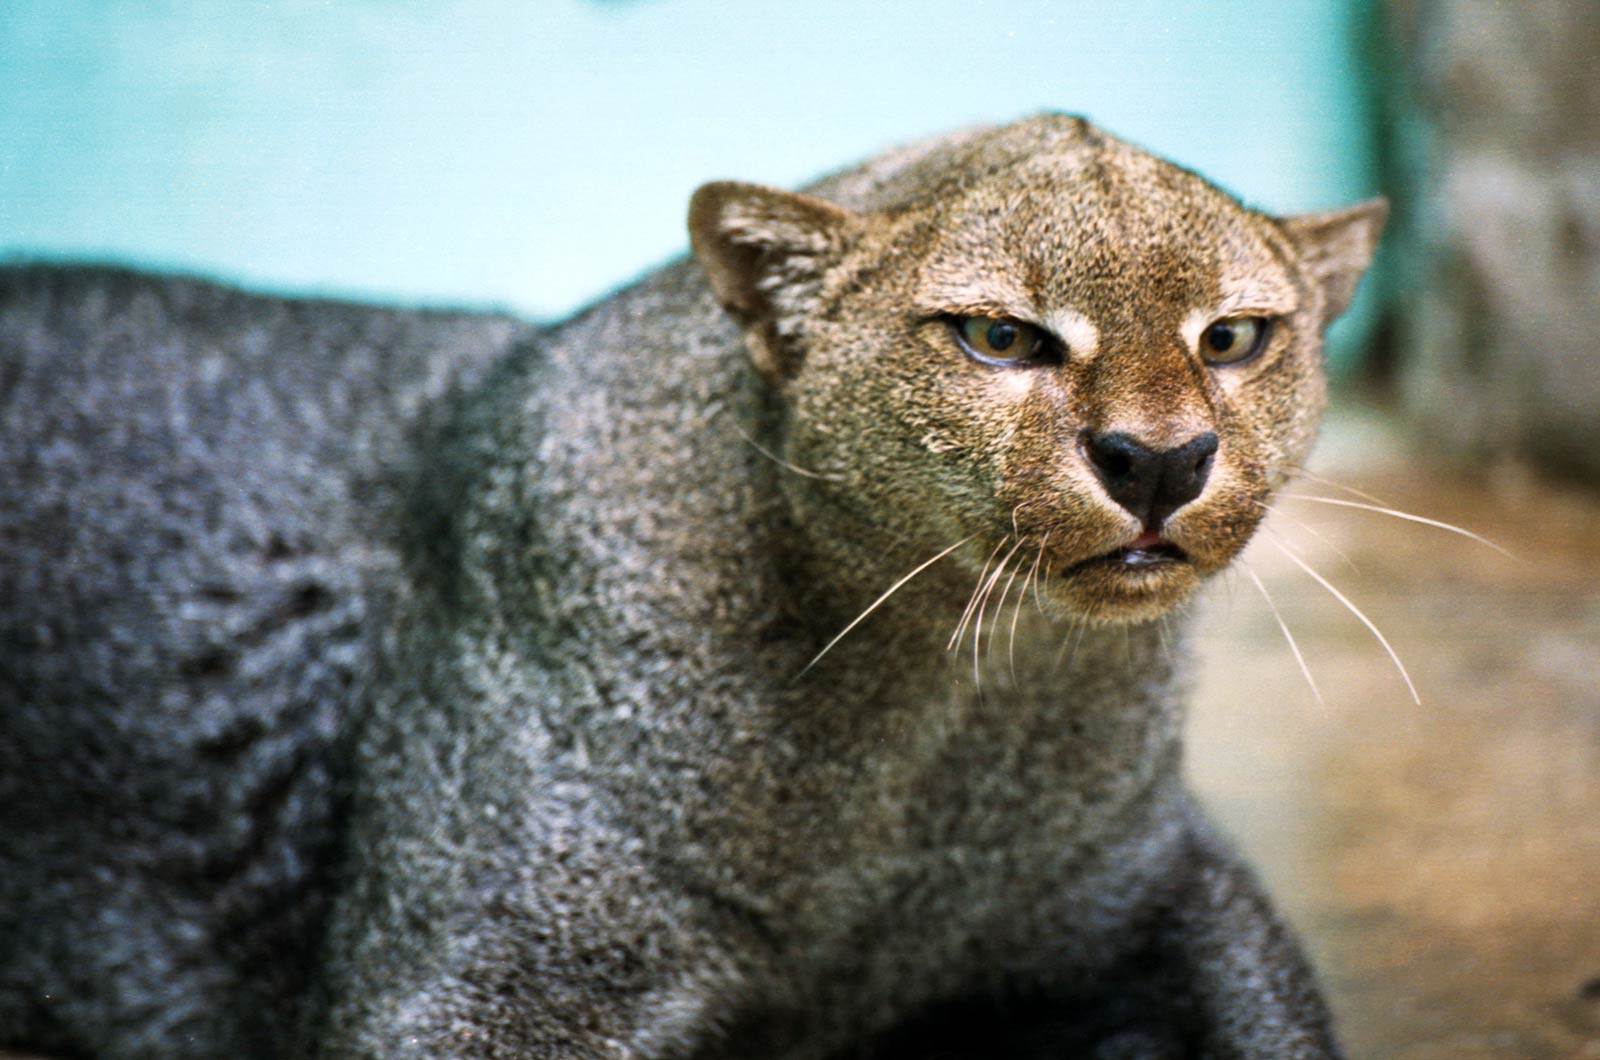Jaguarundi: (48, 105, 1407, 1009)
